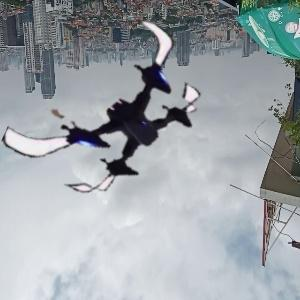drone: (25, 14, 218, 207)
